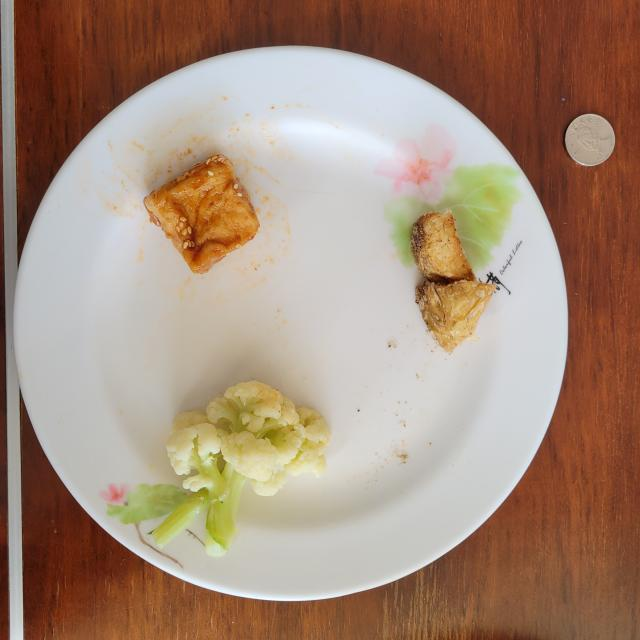coin: (565, 114, 615, 166)
creamy tofu: (144, 154, 259, 274)
fried potato: (410, 210, 495, 352)
